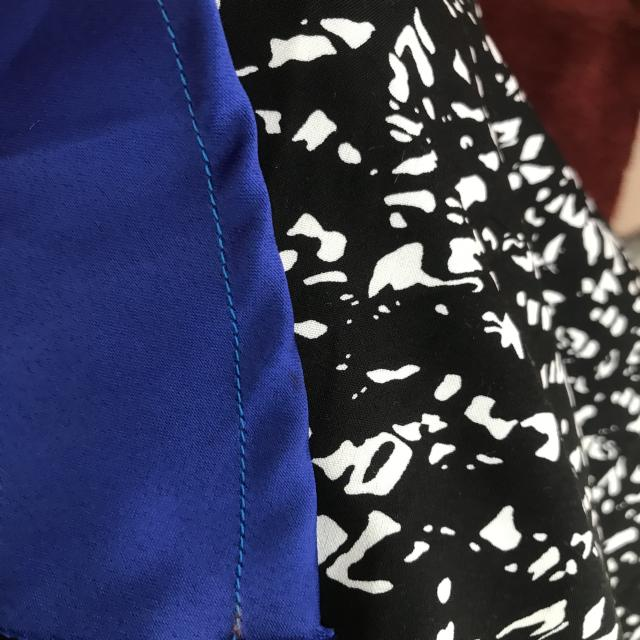good: (204, 244, 270, 435), (169, 30, 226, 208), (233, 449, 265, 576)
